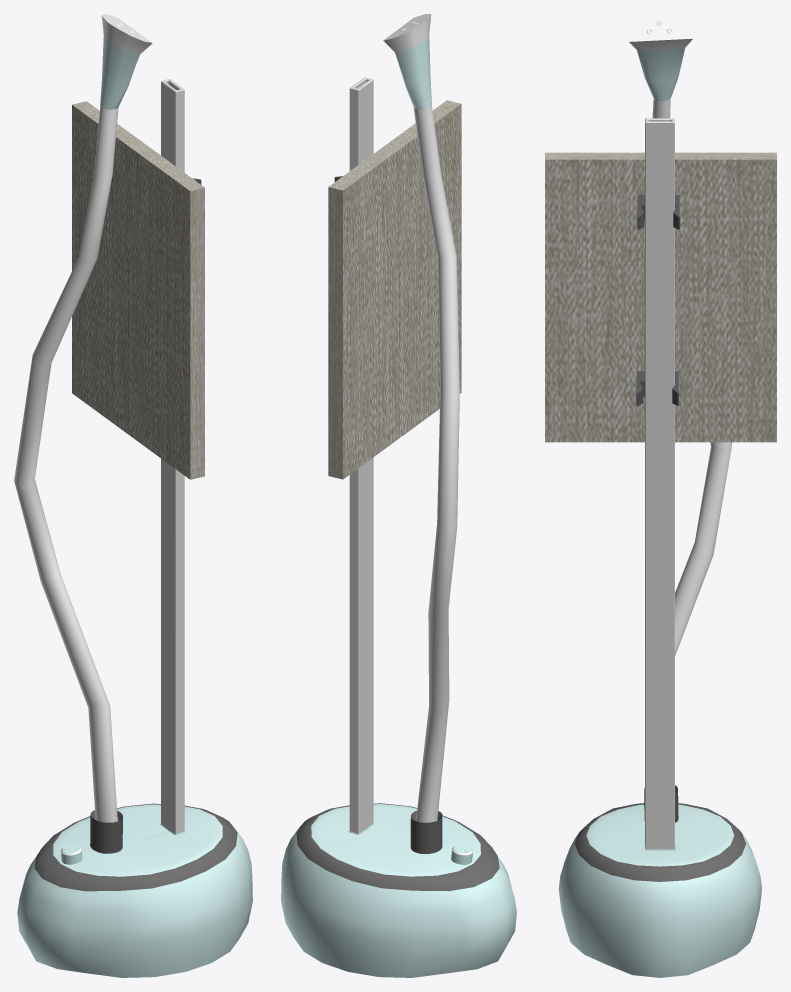
File: iron5.fbx
The picture shows the model from 3 angles, left to right: view 1: azimuth 30°, elevation 25°; view 2: azimuth 150°, elevation 25°; view 3: azimuth 270°, elevation 25°; orthographic projection. The views are drawn at different scales.
Parts seen in each view (by area): view 1: pCube11, pCylinder8, pCylinder6, Iron1_pCube1, Iron1_pCube2; view 2: pCube11, pCylinder8, pCylinder6, Iron1_pCube1, Iron1_pCube2; view 3: pCube11, pCylinder8, Iron1_pCube2, Iron1_pCube1, pCylinder6.
Part boxes in pixels (x1,y1,x2,y2): pCube11: (72, 101, 204, 479); pCylinder8: (17, 803, 252, 977); pCylinder6: (14, 14, 152, 853); Iron1_pCube1: (161, 522, 184, 834); Iron1_pCube2: (161, 79, 184, 532); pCube11: (328, 100, 461, 479); pCylinder8: (281, 803, 516, 977); pCylinder6: (383, 14, 459, 853); Iron1_pCube1: (349, 521, 373, 833); Iron1_pCube2: (349, 77, 373, 531); pCube11: (545, 152, 776, 442); pCylinder8: (558, 803, 761, 977); Iron1_pCube2: (645, 118, 674, 553); Iron1_pCube1: (645, 550, 674, 849); pCylinder6: (625, 14, 732, 822).
Size of the model in its own units: 3.25 by 13.13 by 3.06.
Materials: 9 (1 with a texture image).
